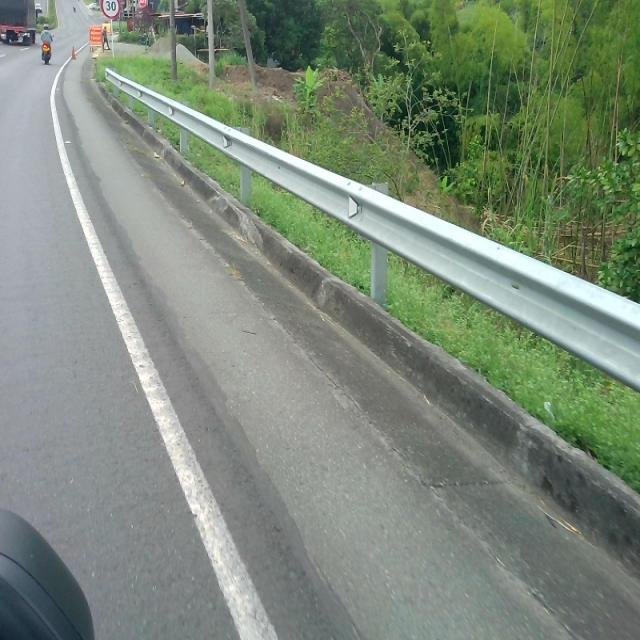DITCH: (32, 41, 638, 638), (59, 40, 638, 638)
